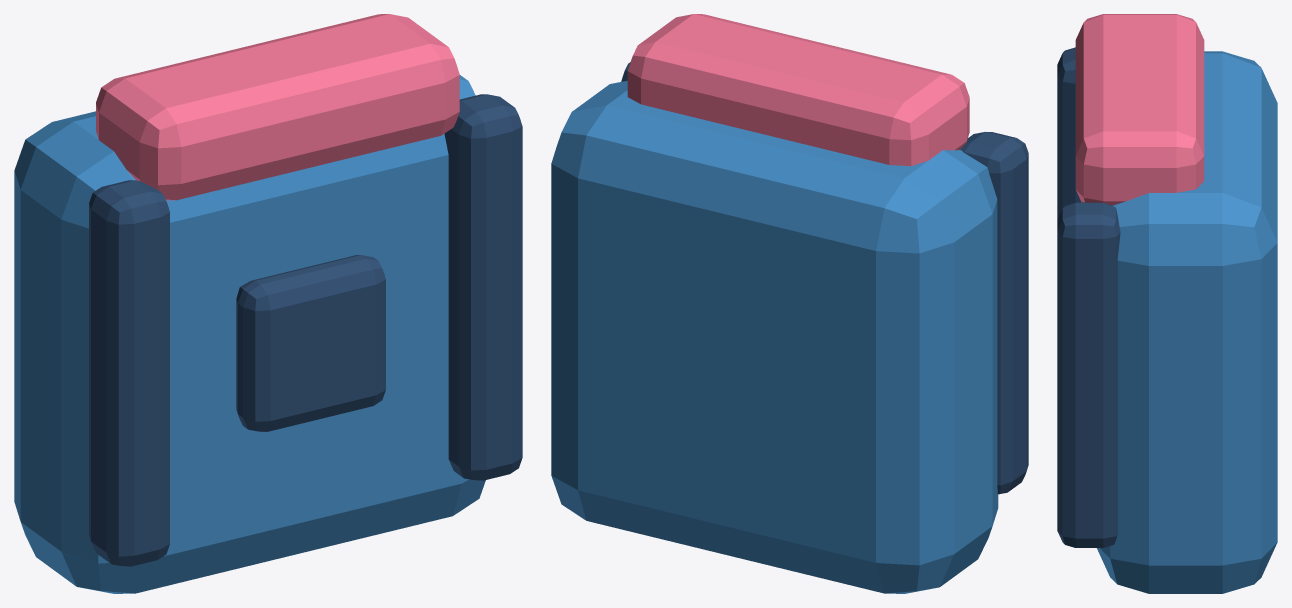
Rendered from sprout-backpack.glb.
3 renders of one model, left to right at view 1: azimuth 30°, elevation 25°; view 2: azimuth 150°, elevation 25°; view 3: azimuth 270°, elevation 25°, orthographic. The views are drawn at different scales.
Visible parts, largest first — view 1: sprout_backpack; view 2: sprout_backpack; view 3: sprout_backpack.
Part boxes in pixels (x1=…): sprout_backpack: x1=14, y1=14, x2=522, y2=593; sprout_backpack: x1=551, y1=14, x2=1028, y2=593; sprout_backpack: x1=1057, y1=14, x2=1277, y2=593.
Size of the model in its own units: 0.48 by 0.54 by 0.24.
